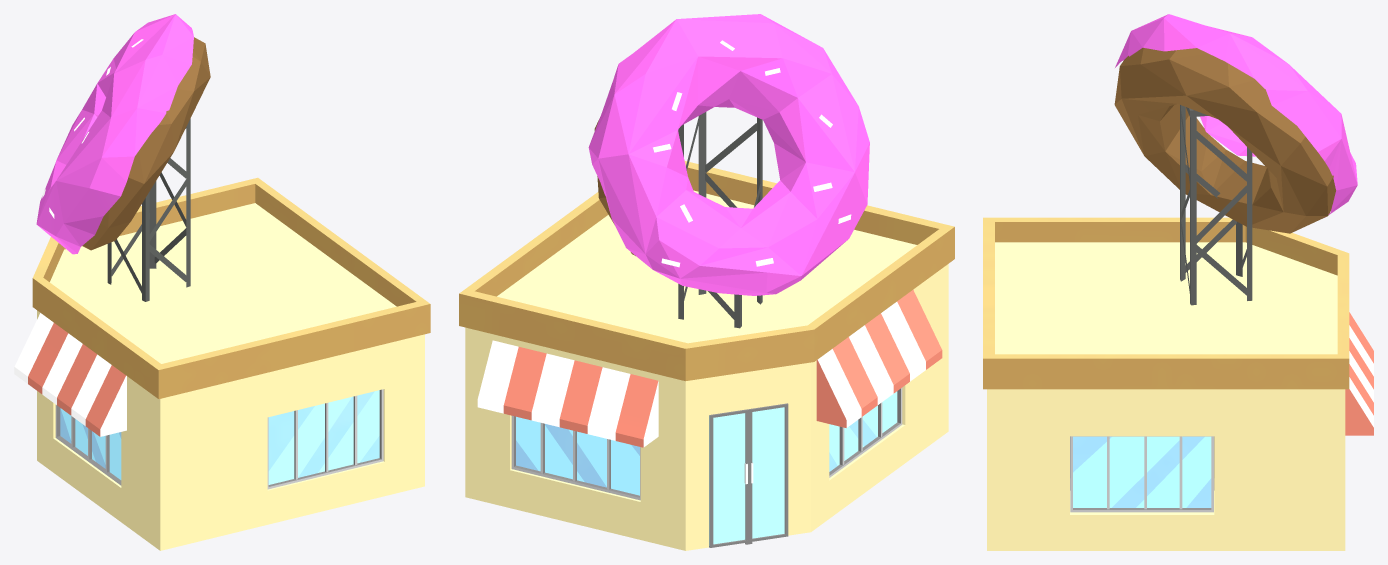
File: snack.glb
3 views of the same model, side by side, from view 1: azimuth 30°, elevation 25°; view 2: azimuth 150°, elevation 25°; view 3: azimuth 270°, elevation 25° (orthographic). The views are drawn at different scales.
Parts seen in each view (by area): view 1: snack(Clone); view 2: snack(Clone); view 3: snack(Clone).
Boxes of the visible parts, x1=… form: snack(Clone): x1=14, y1=14, x2=430, y2=550; snack(Clone): x1=459, y1=14, x2=954, y2=550; snack(Clone): x1=983, y1=14, x2=1373, y2=550.
Bounding box in the file's own units: 5.65 × 7.74 × 6.09.
1 material, 1 textured.
